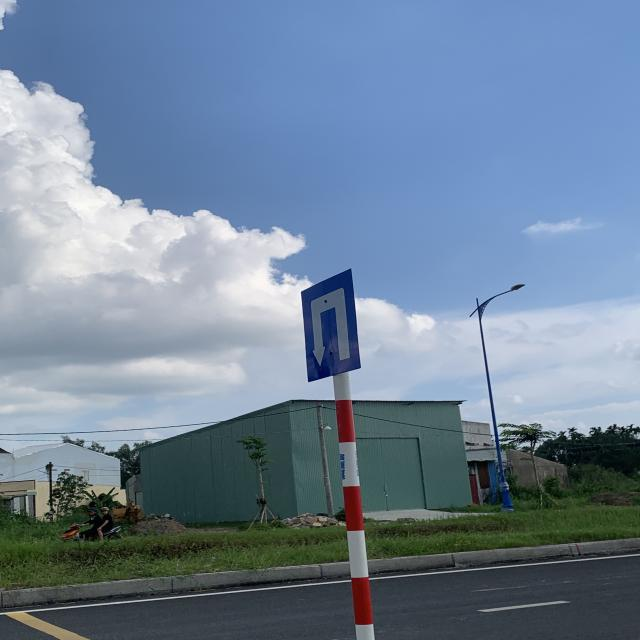Den_Giao_Thong: (296, 268, 366, 382)
